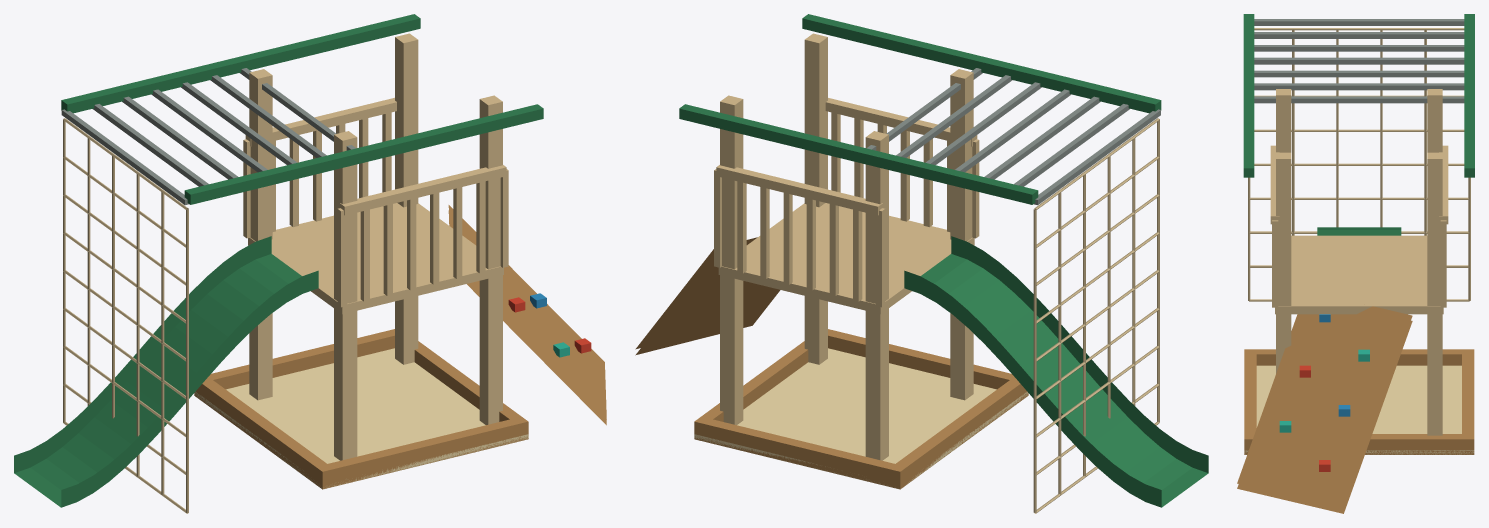
3 views of the same model, side by side, from view 1: azimuth 30°, elevation 25°; view 2: azimuth 150°, elevation 25°; view 3: azimuth 270°, elevation 25° (orthographic). The views are drawn at different scales.
Parts seen in each view (by area): view 1: SW-T205; view 2: SW-T205; view 3: SW-T205.
Part boxes in pixels (x1,y1,x2,y2): SW-T205: (14, 14, 606, 513); SW-T205: (635, 14, 1208, 513); SW-T205: (1237, 14, 1474, 513).
Bounding box in the file's own units: 3.98 × 2.24 × 1.64.
